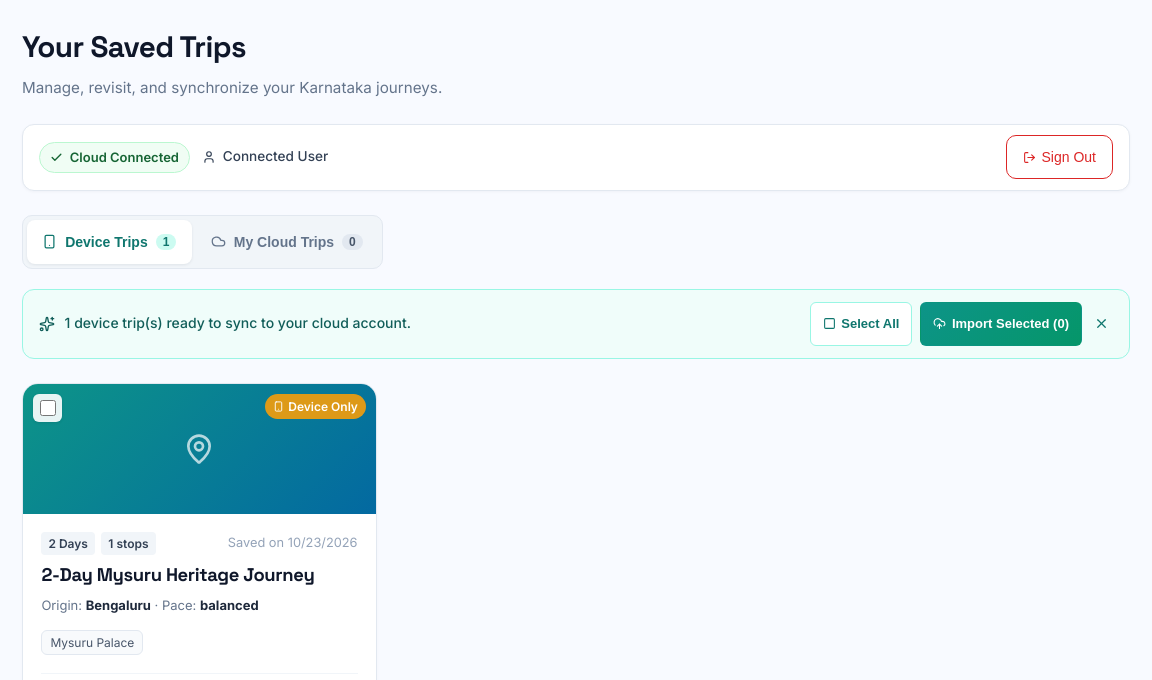
Test: SavedTripsView Component › supports selecting device trips and running batch import to cloud account
Expected: the checkbox named "Select 2-Day Mysuru Heritage Journey" is not checked, x1=40 y1=400 x2=56 y2=416
# Select All
Click the button with test id "select-all-btn" at (861, 324), box x1=810 y1=302 x2=912 y2=346
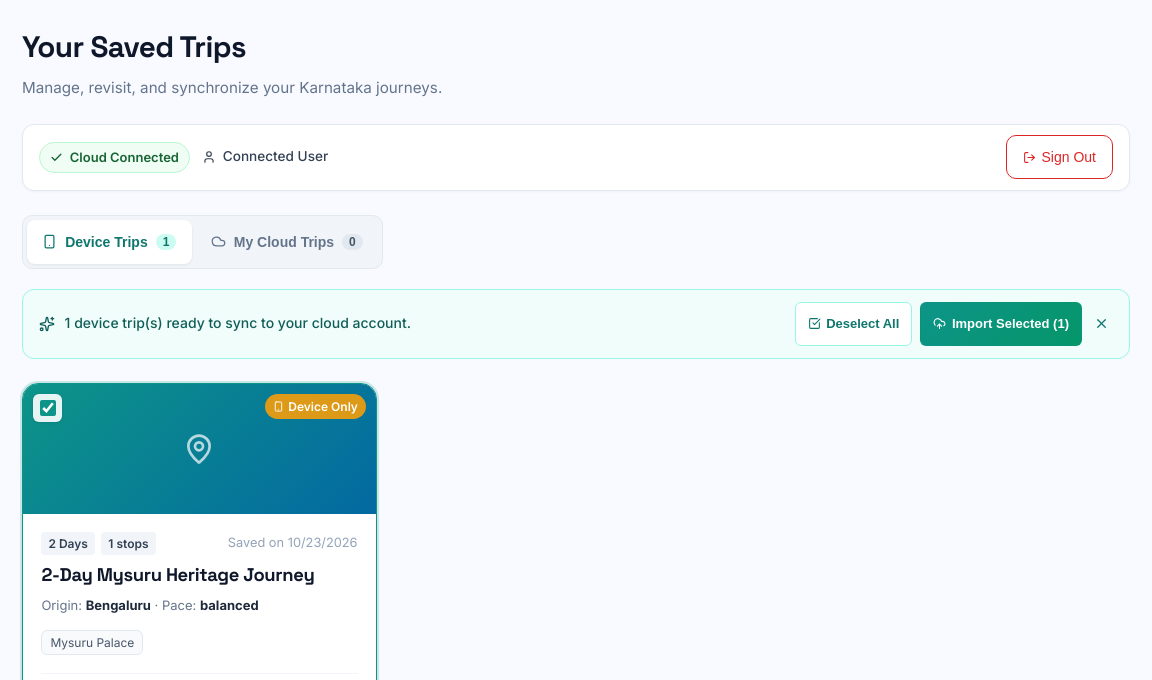
Now the checkbox named "Select 2-Day Mysuru Heritage Journey" is checked, box x1=40 y1=400 x2=56 y2=416
Now the button with test id "import-selected-btn" reads "Import Selected (1)"
Click the button with test id "import-selected-btn" at (1001, 324), box x1=920 y1=302 x2=1082 y2=346
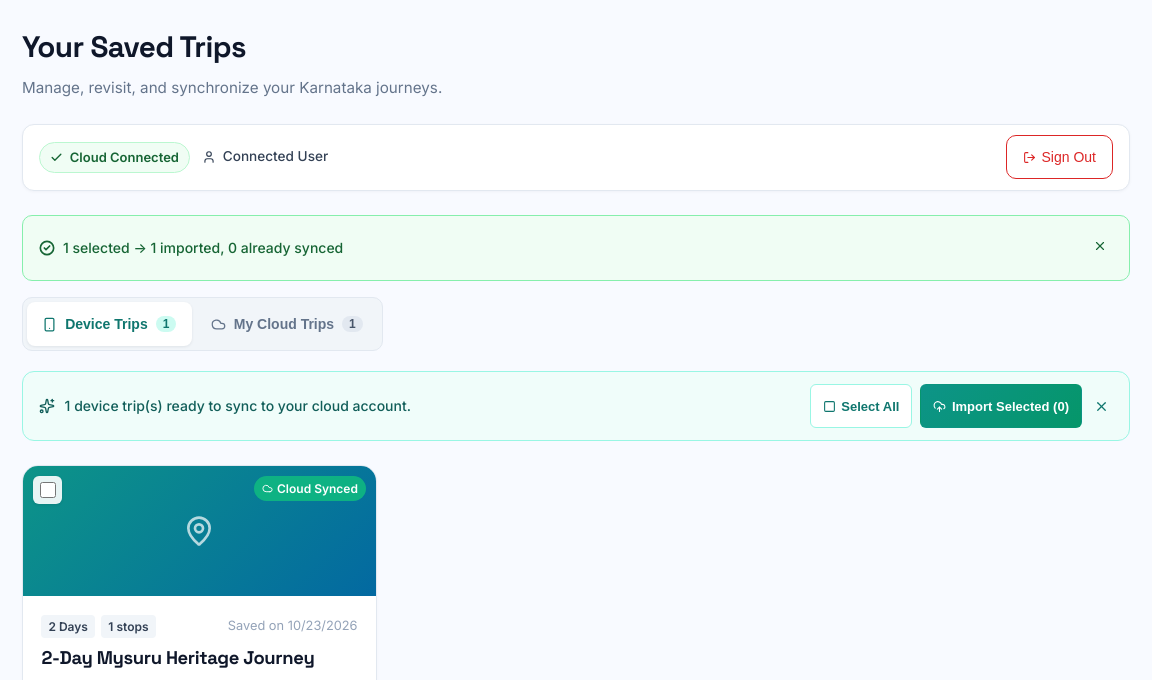
Now the text "1 selected → 1 imported, 0 already synced" is shown, box x1=63 y1=237 x2=343 y2=259
